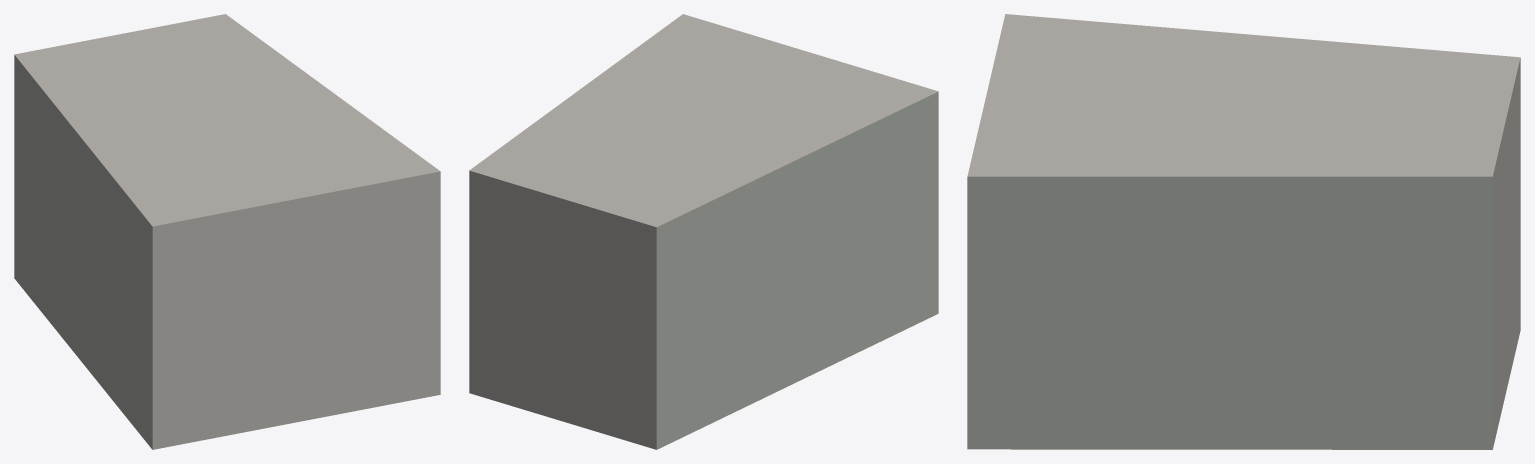
Rendered from floor_single_tile (1).fbx.
3 renders of one model, left to right at view 1: azimuth 30°, elevation 25°; view 2: azimuth 150°, elevation 25°; view 3: azimuth 270°, elevation 25°, orthographic. The views are drawn at different scales.
Visible parts, largest first — view 1: Cylinder; view 2: Cylinder; view 3: Cylinder.
Part boxes in pixels (box(x1,y1,x2,y2)): Cylinder: box(14, 14, 440, 449); Cylinder: box(469, 14, 938, 449); Cylinder: box(967, 14, 1520, 449).
Size of the model in its own units: 99.04 by 77.71 by 142.
1 material, 1 textured.
